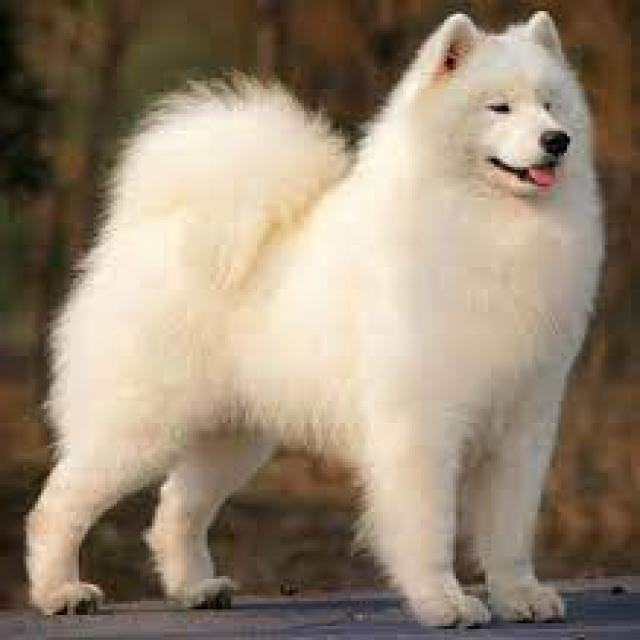dogs: (27, 8, 606, 628)
